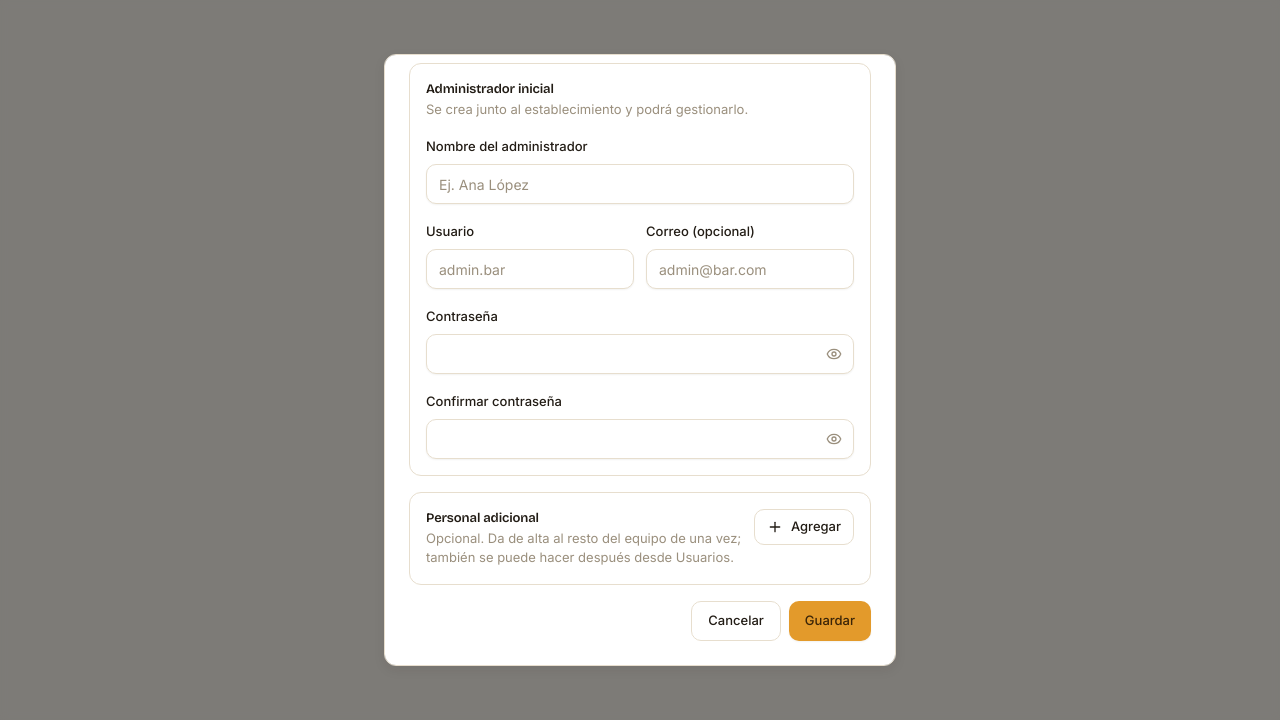
Test: EstablecimientoFormDialog · personal adicional › agrega una fila con Agregar y la quita con el botón de quitar
(page scrolled)
Click the button "Agregar": coordinates (804, 527) [754,509,854,545]
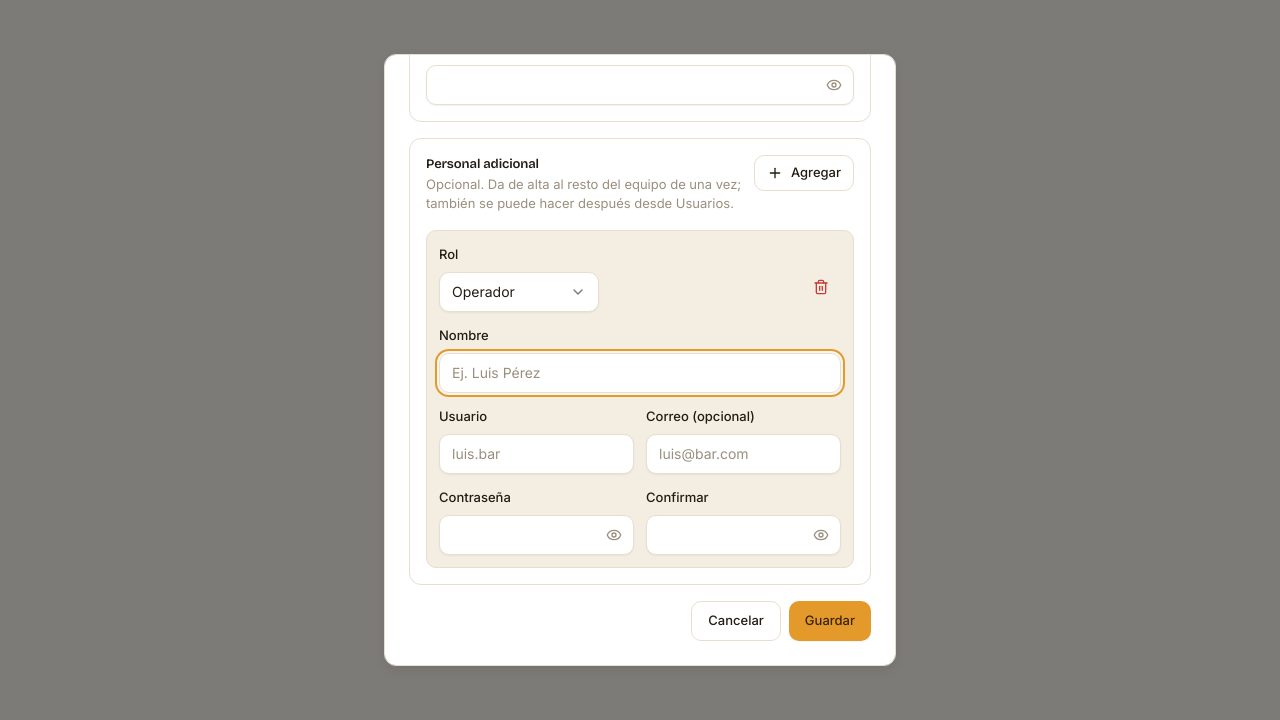
Expected: the dropdown named "rol" is shown, [439,272,599,312]
Click the button named "quitar": coordinates (821, 286) [801,266,841,306]
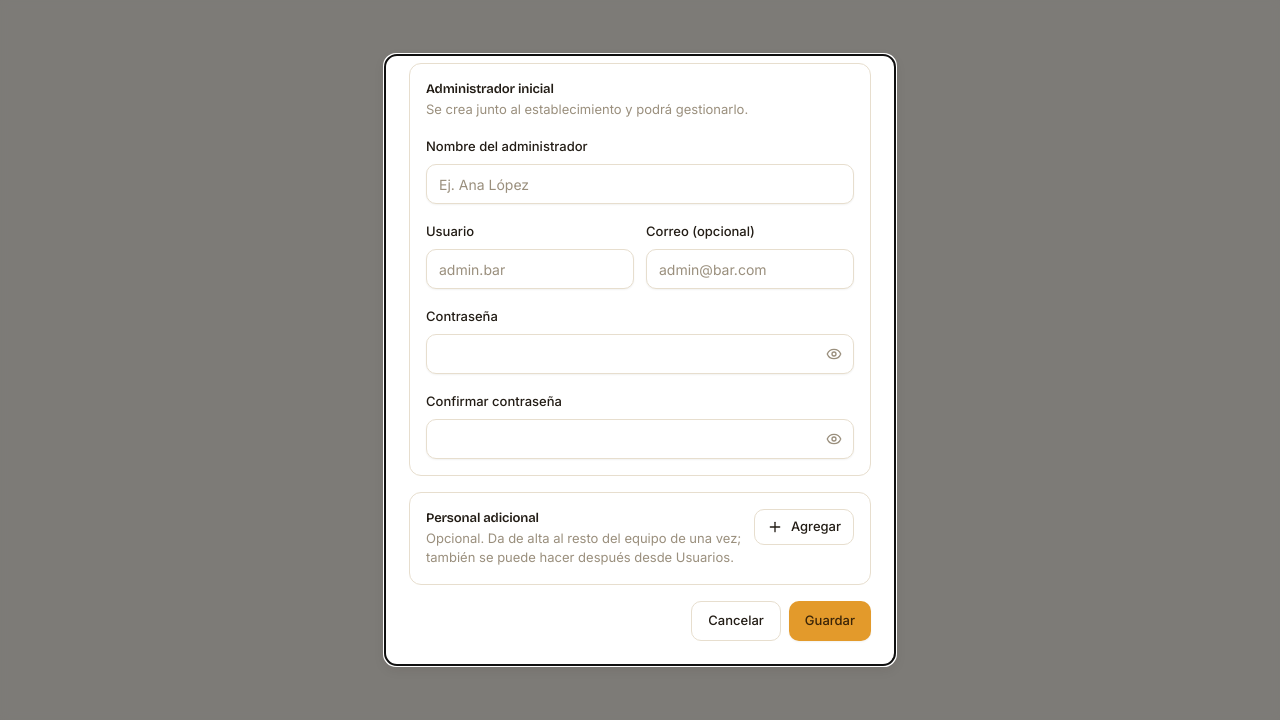
Expected: the label "Rol" is gone
